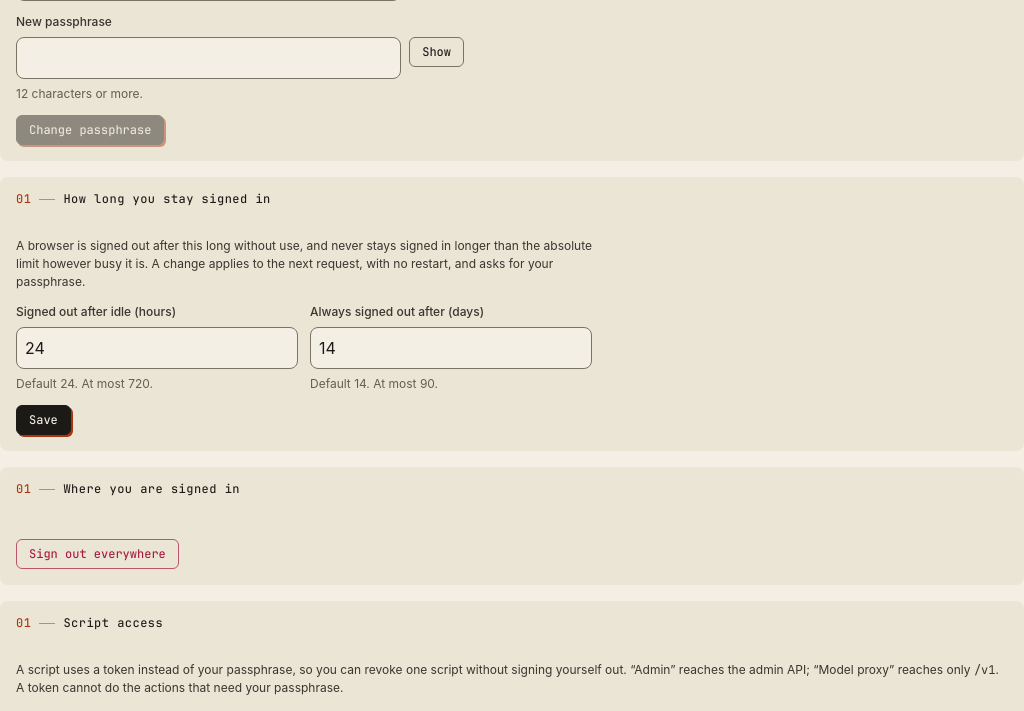
Scenario: SignInSettings › says what is wrong before saving: out of range, or idle longer than the session can live
This screenshot has width=1024, height=711.
(page scrolled)
Step 1. Replace the text in the number field with test id "idle-hours" with "100" → (157, 348), box [16,327,298,369]
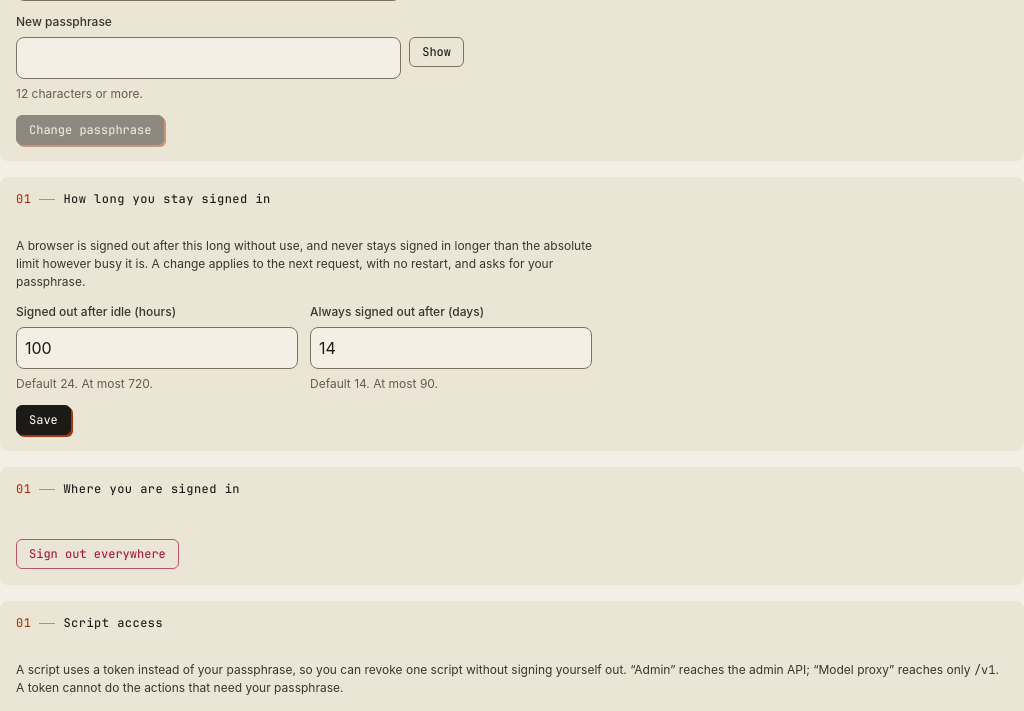
Step 2. Replace the text in the number field with test id "absolute-days" with "2" → (451, 348), box [310,327,592,369]
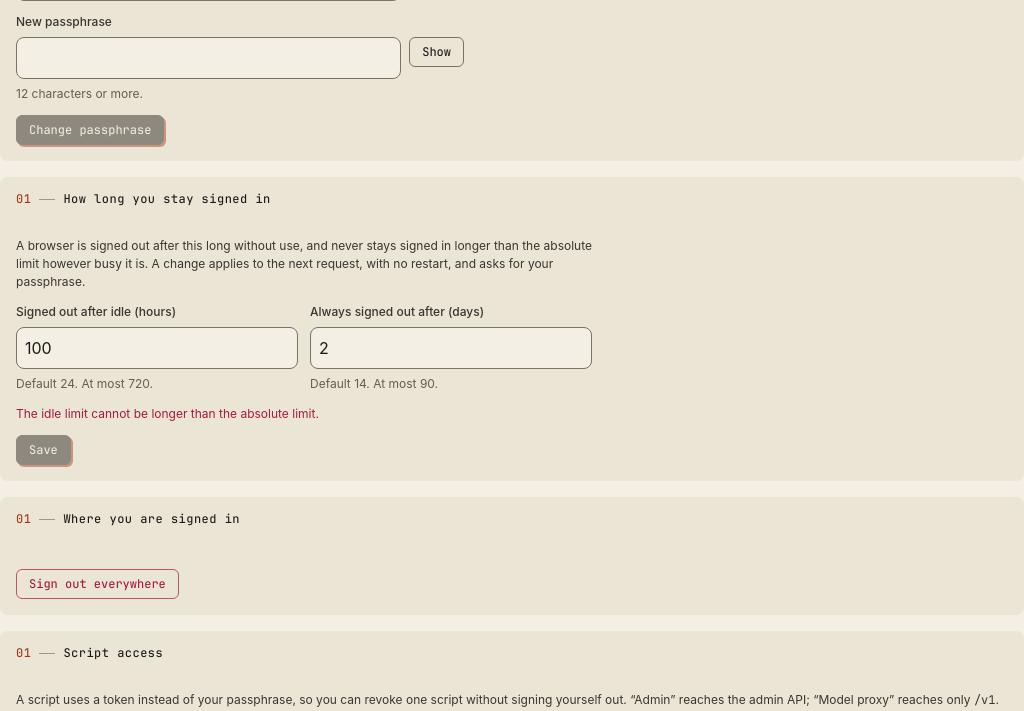
Result: the message with test id "session-length-error" shows "cannot be longer" at [16,406,319,421]
Step 3. Submit the form with test id "session-length-form", box [16,237,592,465]
Step 4. Replace the text in the number field with test id "absolute-days" with "500" → (451, 348), box [310,327,592,369]
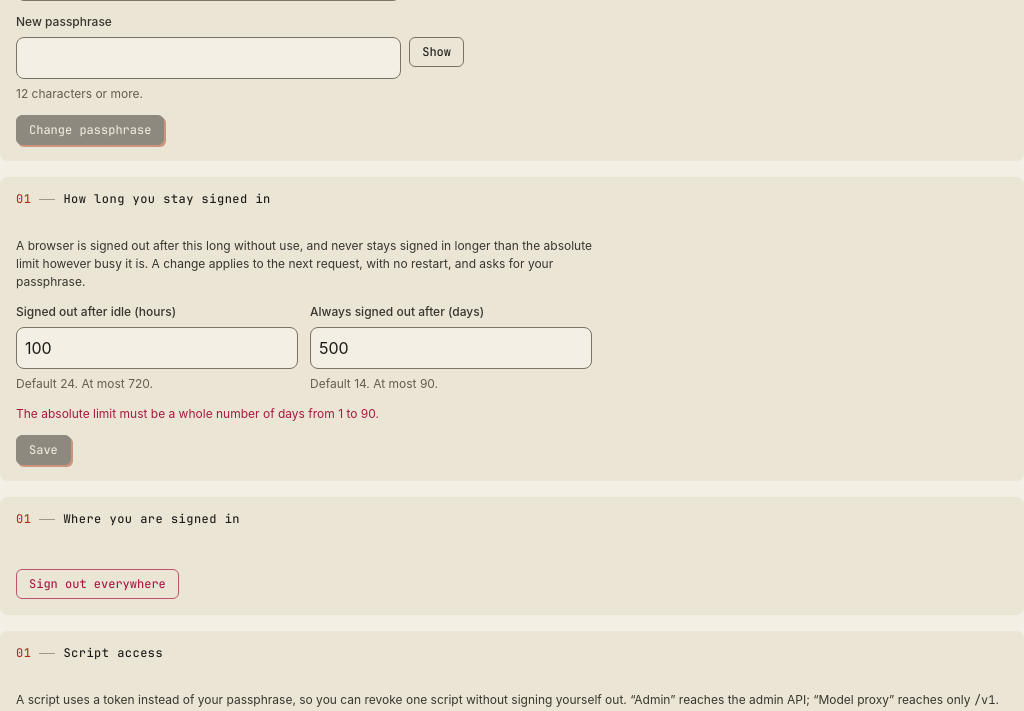
Result: the message with test id "session-length-error" shows "90" at [16,406,379,421]
